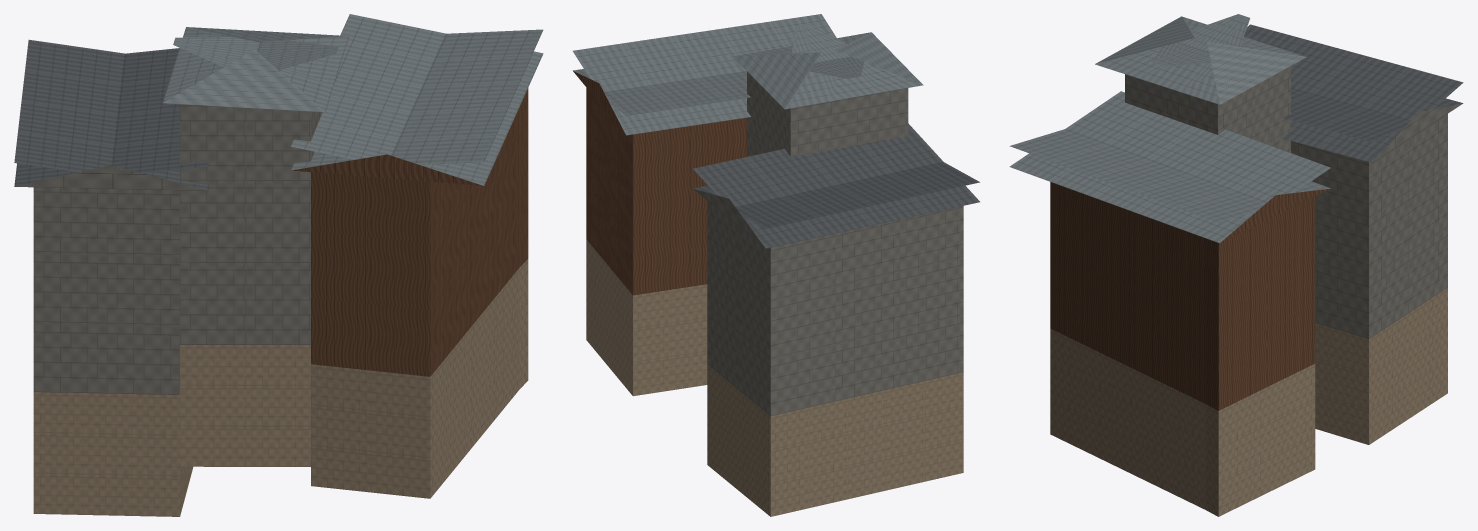
The model's file is bld_c41_-47_463.gltf.
The picture shows the model from 3 angles, left to right: view 1: azimuth 30°, elevation 25°; view 2: azimuth 150°, elevation 25°; view 3: azimuth 270°, elevation 25°; orthographic projection. The views are drawn at different scales.
Visible parts, largest first — view 1: bld_c41_-47_463; view 2: bld_c41_-47_463; view 3: bld_c41_-47_463.
Part boxes in pixels (x1=…): bld_c41_-47_463: x1=14, y1=14, x2=543, y2=516; bld_c41_-47_463: x1=573, y1=14, x2=979, y2=516; bld_c41_-47_463: x1=1009, y1=14, x2=1463, y2=516.
Bounding box in the file's own units: 22.4 × 18.5 × 19.83.
Materials: 7 (7 with a texture image).
